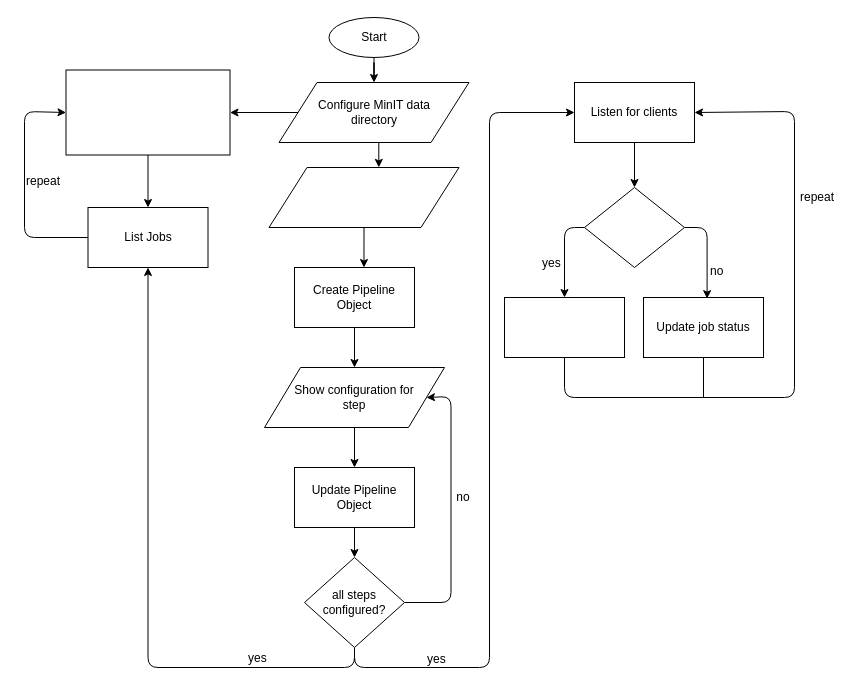
Some shapes in this 866 by 693 pixel diagram are drawn without their labels. Each missing label, with the box of its shape:
A new client?: (584, 186, 684, 268)
Listen for new data sets written as the sequencing happens: (65, 69, 230, 155)
Send a job: (504, 296, 624, 358)
Show pipeline GUI to select steps: (268, 166, 459, 228)
